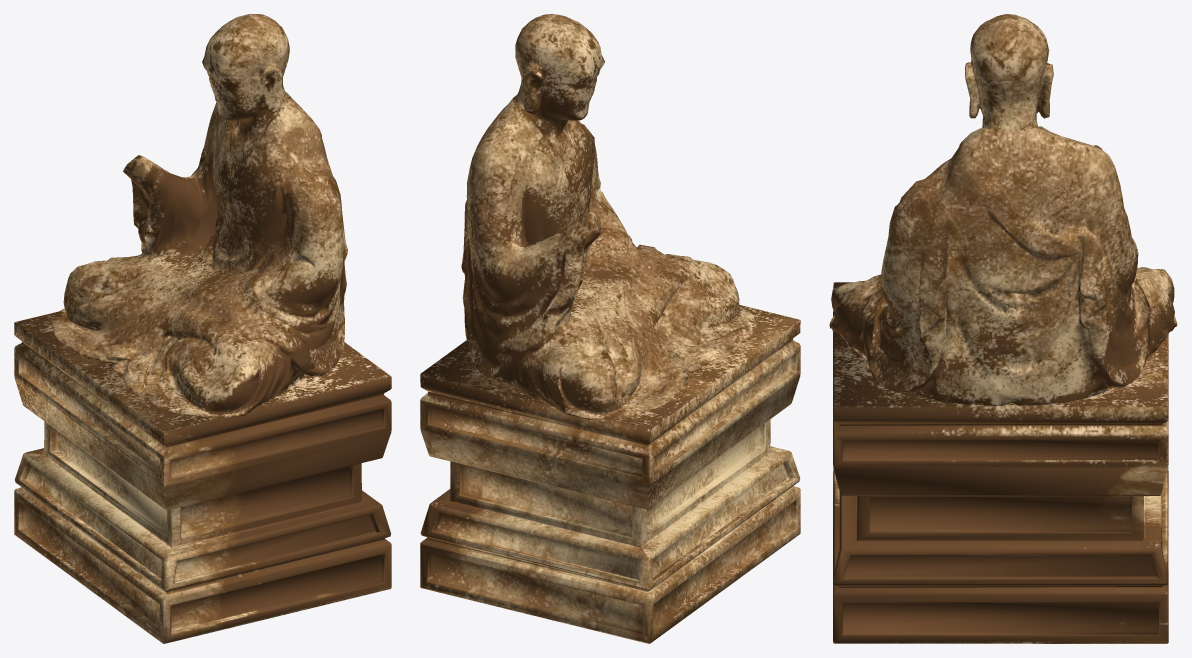
File: arhat-cti-2.glb
3 renders of one model, left to right at view 1: azimuth 30°, elevation 25°; view 2: azimuth 150°, elevation 25°; view 3: azimuth 270°, elevation 25°, orthographic. The views are drawn at different scales.
Parts seen in each view (by area): view 1: arhat-cti-2-low; view 2: arhat-cti-2-low; view 3: arhat-cti-2-low.
Part boxes in pixels (x1=…): arhat-cti-2-low: x1=14, y1=14, x2=391, y2=643; arhat-cti-2-low: x1=420, y1=14, x2=800, y2=643; arhat-cti-2-low: x1=829, y1=14, x2=1177, y2=643.
Size of the model in its own units: 0.4539 by 0.9999 by 0.533.
Materials: 1 (1 with a texture image).
